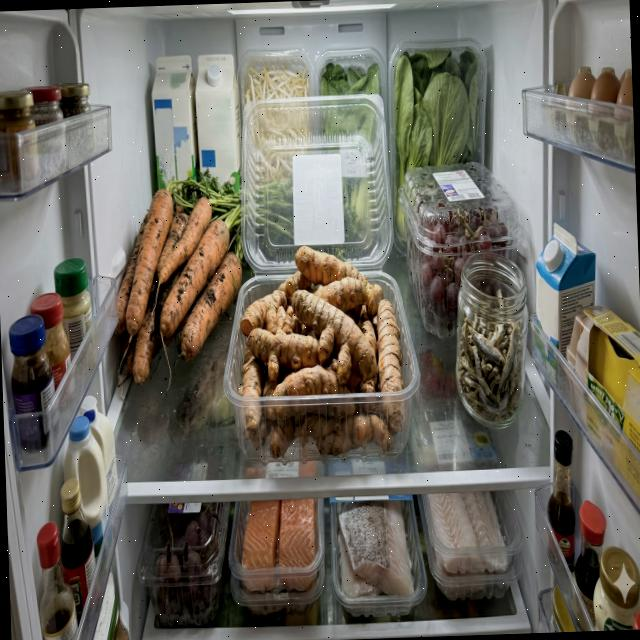anchovies: (454, 288, 526, 424)
bean_sprouts: (244, 64, 312, 185)
carrot: (112, 186, 245, 386)
egg: (553, 64, 635, 170)
fish: (336, 498, 414, 598), (238, 498, 318, 593), (427, 490, 507, 576)
grape: (397, 160, 528, 340), (134, 502, 234, 628)
pakchoy: (389, 48, 484, 240), (318, 62, 385, 243)
turmeric: (233, 242, 405, 460)
